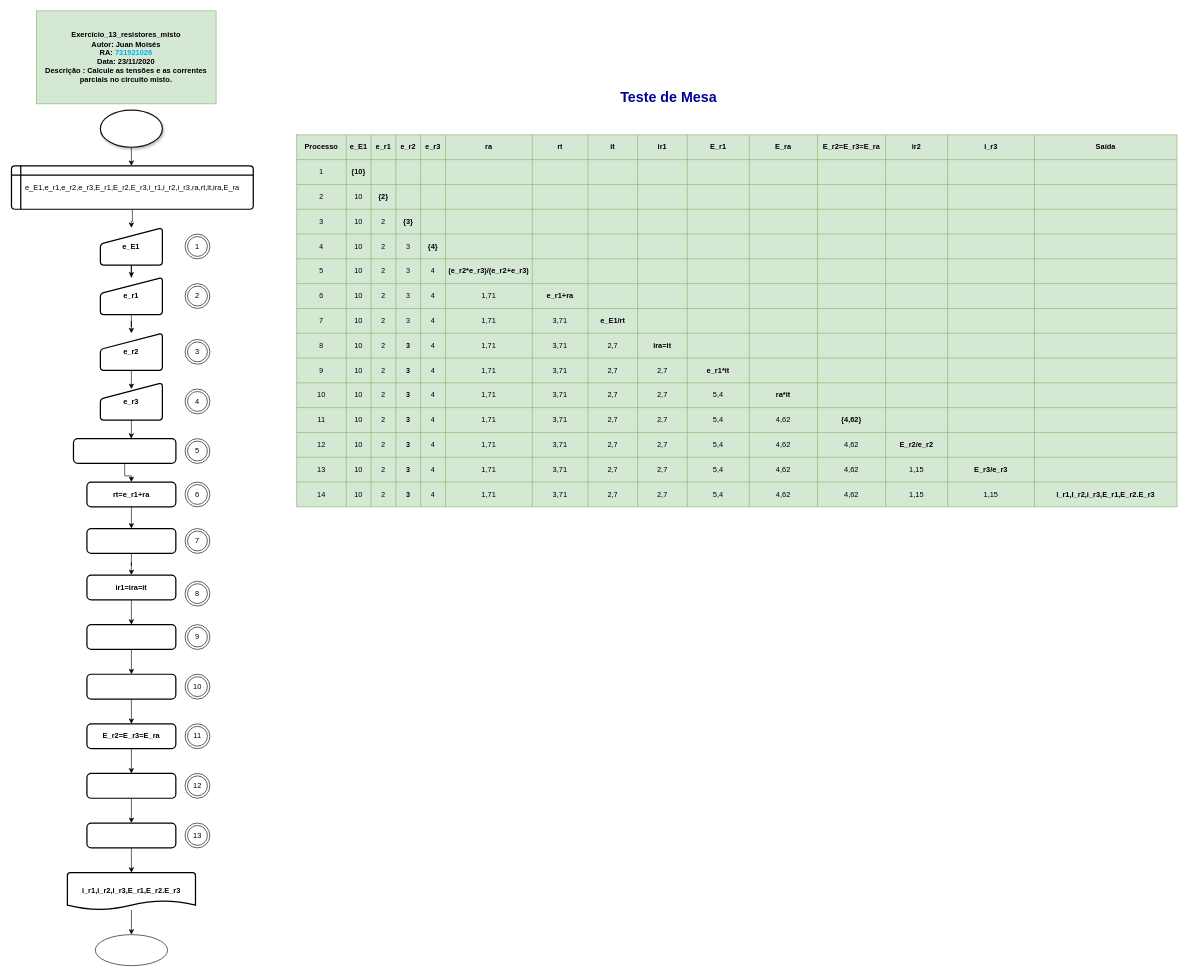
This 1188x977 diagram has some shape labels left out. The shapes that lost their labels are listed below. From the top down, each one's centre as x and y in pixels, then its label:
At (x=131, y=129): "Inicio".
At (x=124, y=451): "ra=(e_r2*e_r3)/(e_r2+e_r3)".
At (x=131, y=541): "it=e_E1/rt".
At (x=131, y=637): "E_r1=e_r1*it".
At (x=131, y=686): "E_ra=ra*it".
At (x=131, y=786): "ir2=E_r2/e_r2".
At (x=131, y=835): "i_r3=E_r3/e_r3".
At (x=131, y=950): "Fim".
